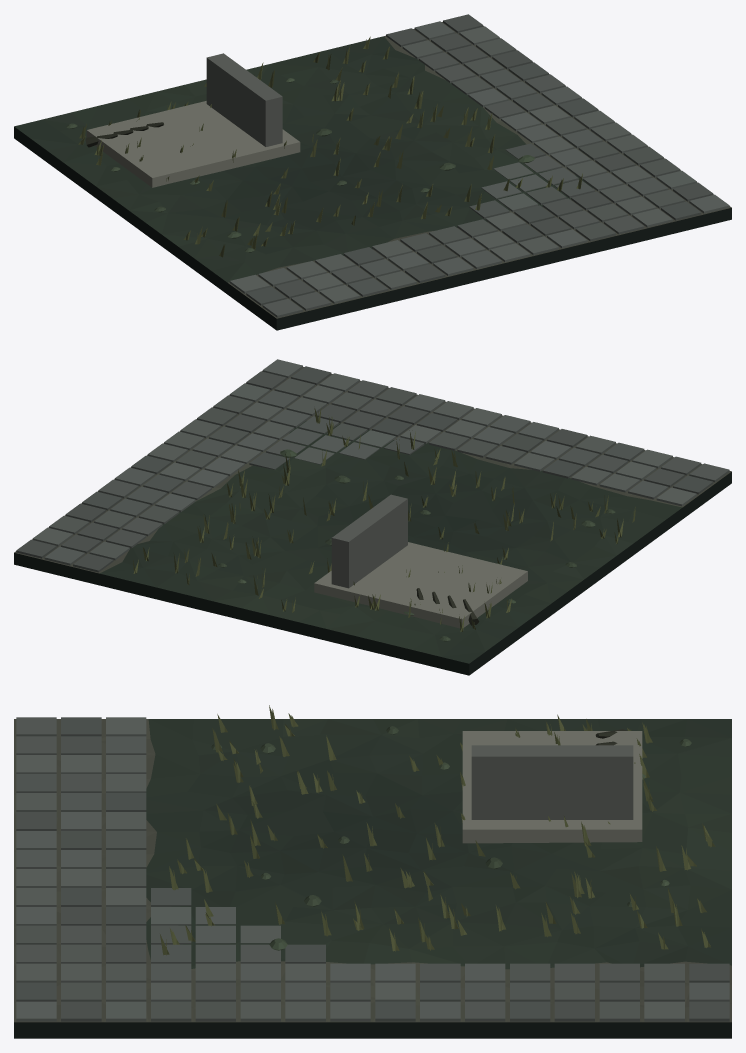
The model's file is CHUNK_ruined_monastery__rootbound_pilgrim_house__00.glb.
3 renders of one model, top to bottom at view 1: azimuth 30°, elevation 25°; view 2: azimuth 150°, elevation 25°; view 3: azimuth 270°, elevation 25°, orthographic. The views are drawn at different scales.
Visible parts, largest first — view 1: CHUNK_ruined_monastery__rootbound_pilgrim_house__00; view 2: CHUNK_ruined_monastery__rootbound_pilgrim_house__00; view 3: CHUNK_ruined_monastery__rootbound_pilgrim_house__00.
Boxes of the visible parts, bbox=[...] form: CHUNK_ruined_monastery__rootbound_pilgrim_house__00: bbox=[14, 14, 731, 330]; CHUNK_ruined_monastery__rootbound_pilgrim_house__00: bbox=[14, 359, 731, 675]; CHUNK_ruined_monastery__rootbound_pilgrim_house__00: bbox=[14, 705, 731, 1038].
Size of the model in its own units: 8 by 1.16 by 8.
